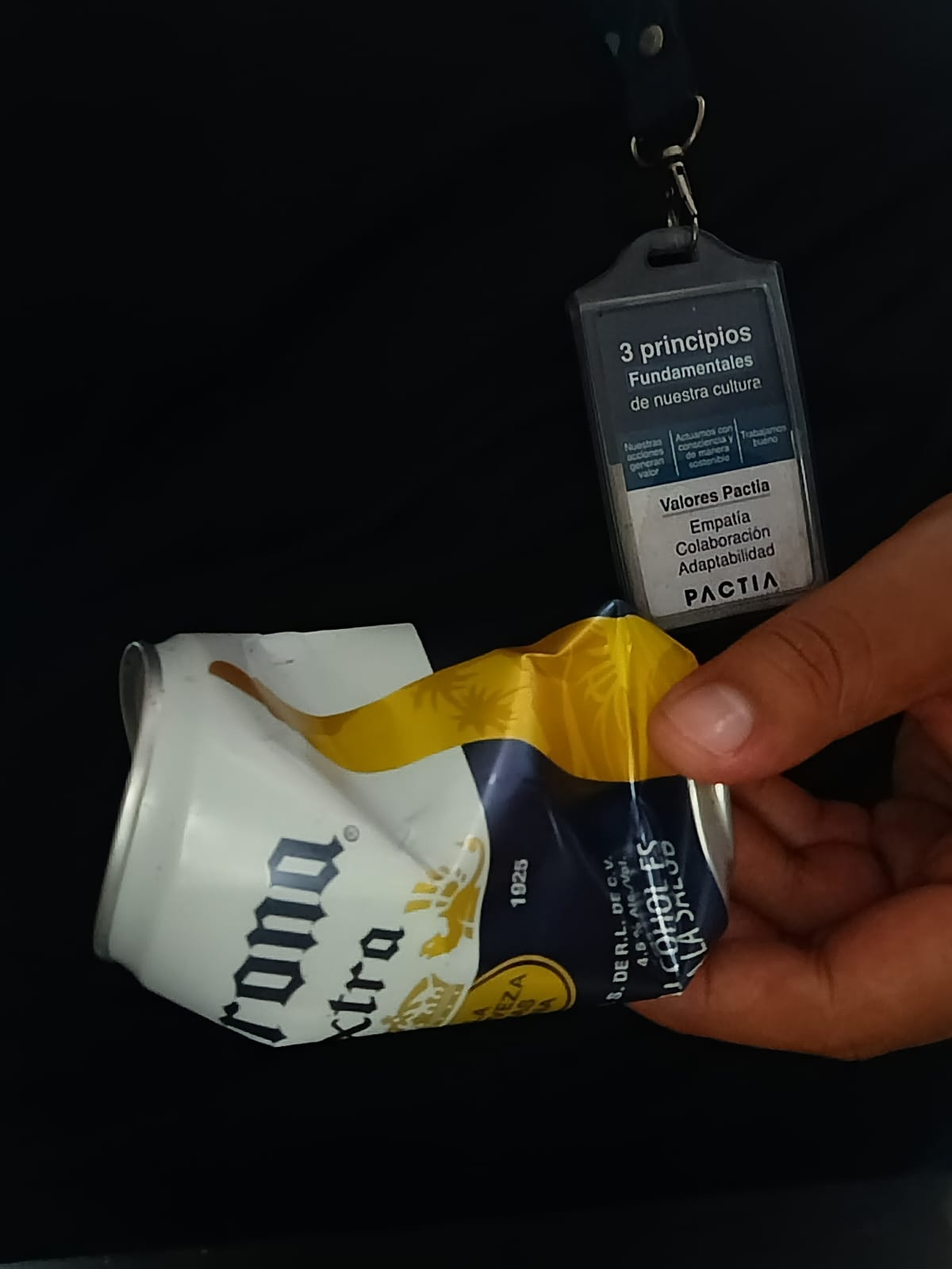Metal: (94, 616, 733, 1050)
